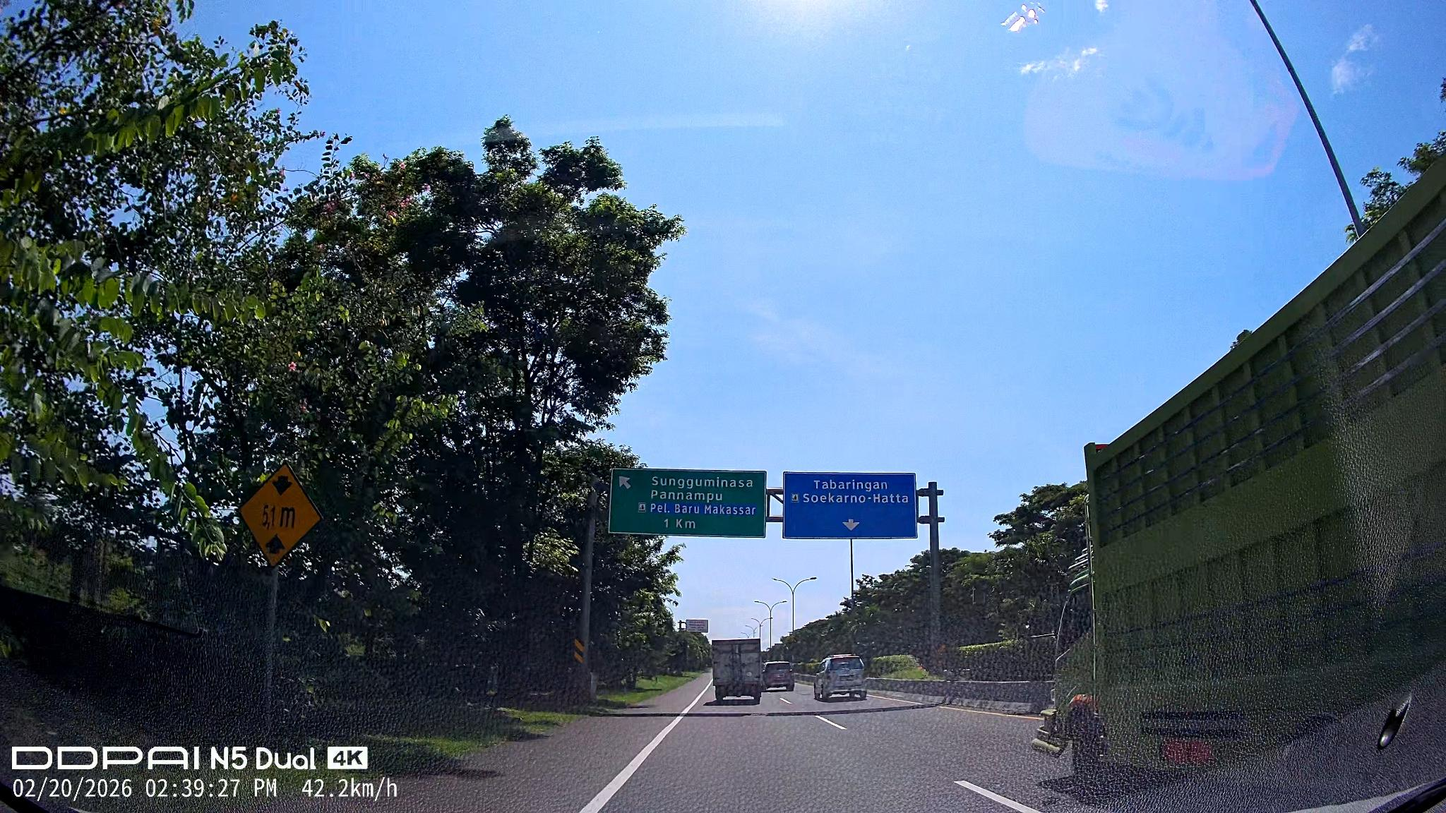rambu_teks: (607, 466, 768, 539), (781, 471, 919, 539)
